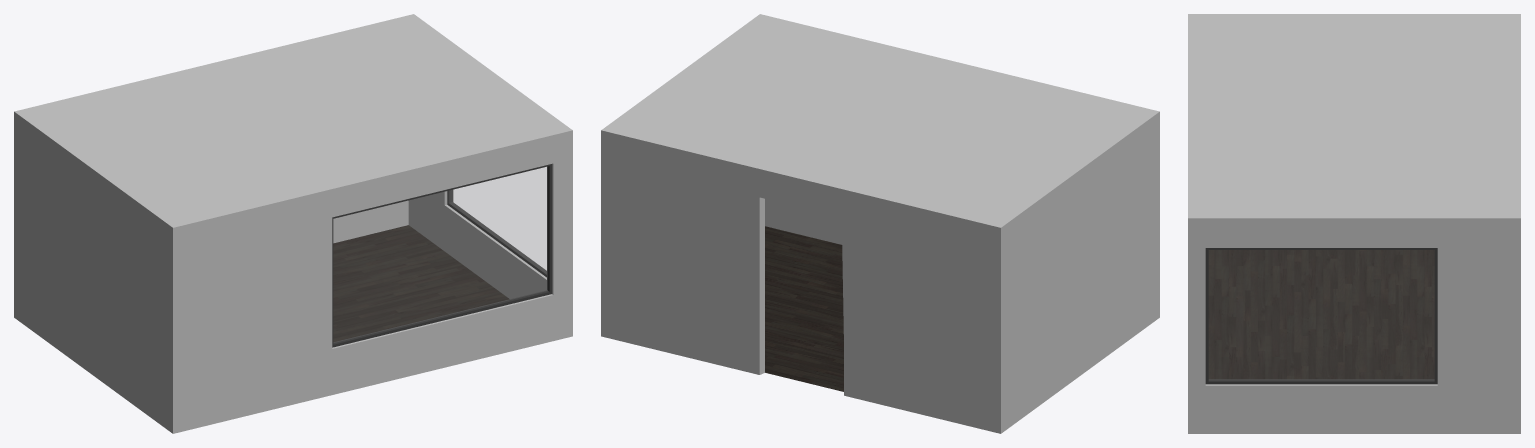
The model's file is OfficeRoom.fbx.
3 views of the same model, side by side, from view 1: azimuth 30°, elevation 25°; view 2: azimuth 150°, elevation 25°; view 3: azimuth 270°, elevation 25° (orthographic). The views are drawn at different scales.
Parts seen in each view (by area): view 1: Plane, Plane.001; view 2: Plane; view 3: Plane, Plane.001.
Part boxes in pixels (x1,y1,x2,y2): Plane: [14, 14, 572, 433]; Plane.001: [332, 164, 551, 347]; Plane: [601, 14, 1159, 433]; Plane: [1188, 14, 1520, 433]; Plane.001: [1205, 248, 1437, 384].
Bounding box in the file's own units: 735 × 362 × 506.
